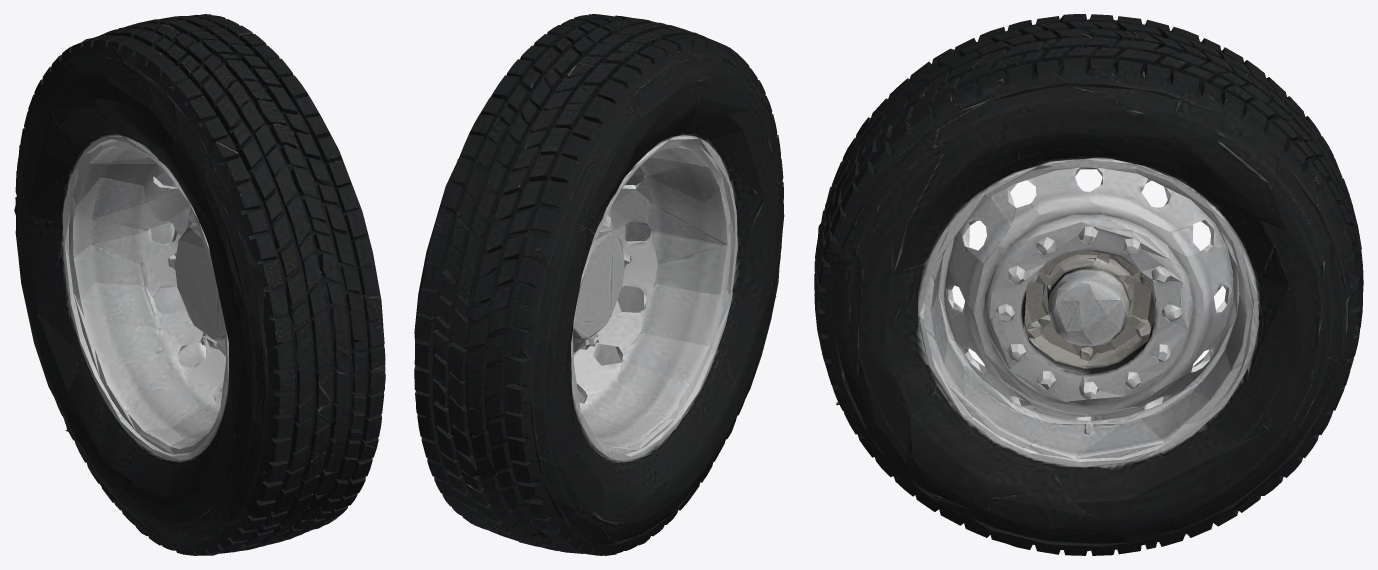
The model's file is roda_onibus.glb.
3 renders of one model, left to right at view 1: azimuth 30°, elevation 25°; view 2: azimuth 150°, elevation 25°; view 3: azimuth 270°, elevation 25°, orthographic. The views are drawn at different scales.
Parts seen in each view (by area): view 1: roda; view 2: roda; view 3: roda.
Part boxes in pixels (<box>): roda: <box>14,14,385,555</box>; roda: <box>414,14,784,555</box>; roda: <box>814,14,1363,555</box>.
Bounding box in the file's own units: 0.5998 × 2 × 2.
1 material, 1 textured.
